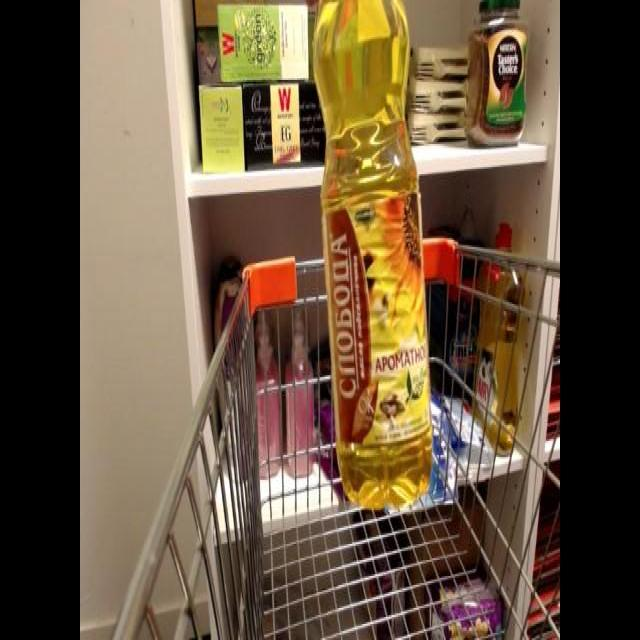Oil: (307, 0, 443, 516)
